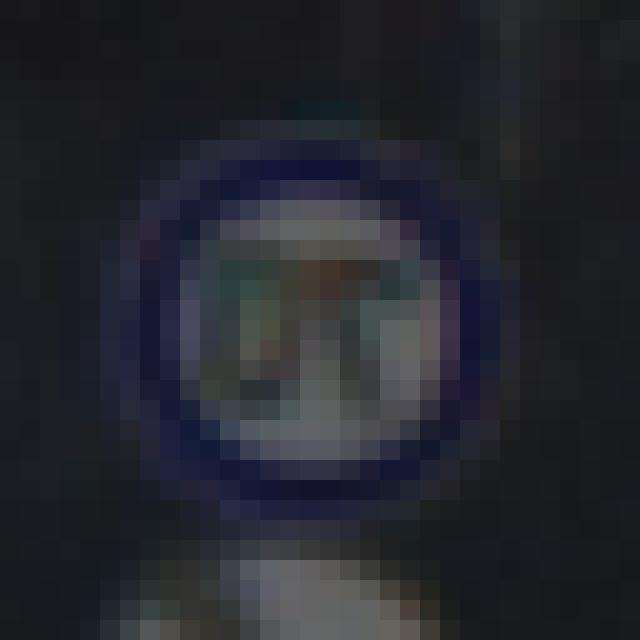SPEED LIMIT 70: (119, 147, 507, 520)
